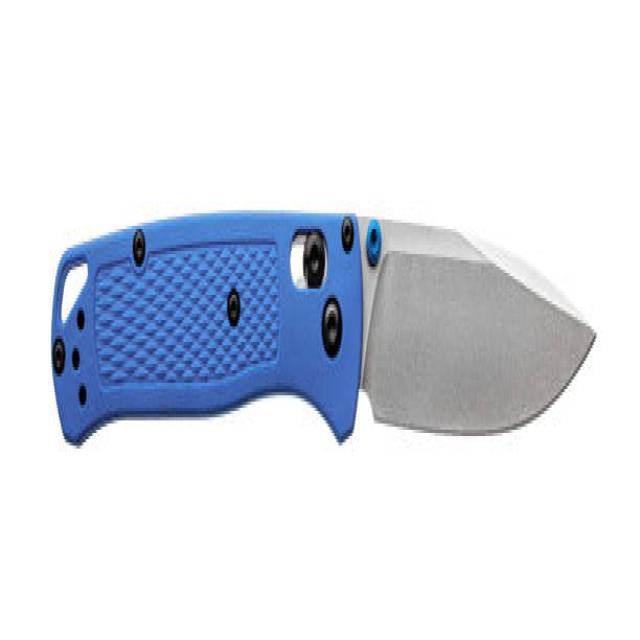knife: (52, 194, 595, 453)
